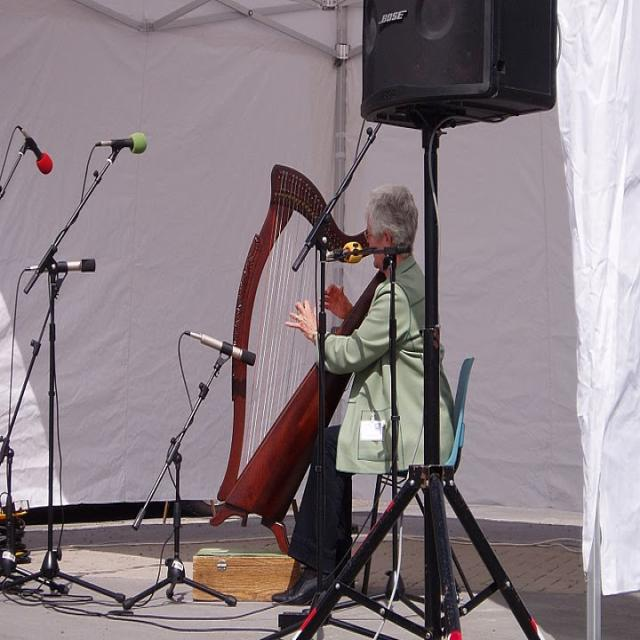harp: (209, 162, 395, 555)
